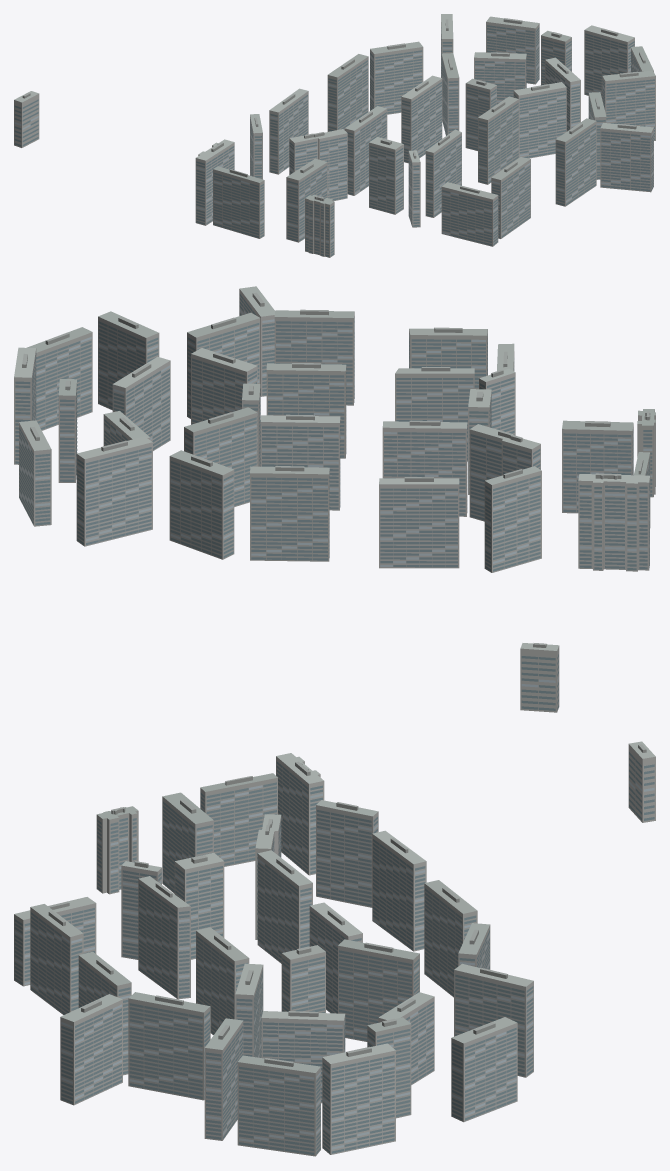
Rendered from apt-a15003002.glb.
3 renders of one model, top to bottom at view 1: azimuth 30°, elevation 25°; view 2: azimuth 150°, elevation 25°; view 3: azimuth 270°, elevation 25°, orthographic. The views are drawn at different scales.
Visible parts, largest first — view 1: apt-a15003002; view 2: apt-a15003002; view 3: apt-a15003002.
Part boxes in pixels (left/top/right/bottom): apt-a15003002: left=14, top=14, right=655, bottom=257; apt-a15003002: left=14, top=286, right=655, bottom=712; apt-a15003002: left=14, top=741, right=655, bottom=1156.
Bounding box in the file's own units: 493 × 62.4 × 381.
